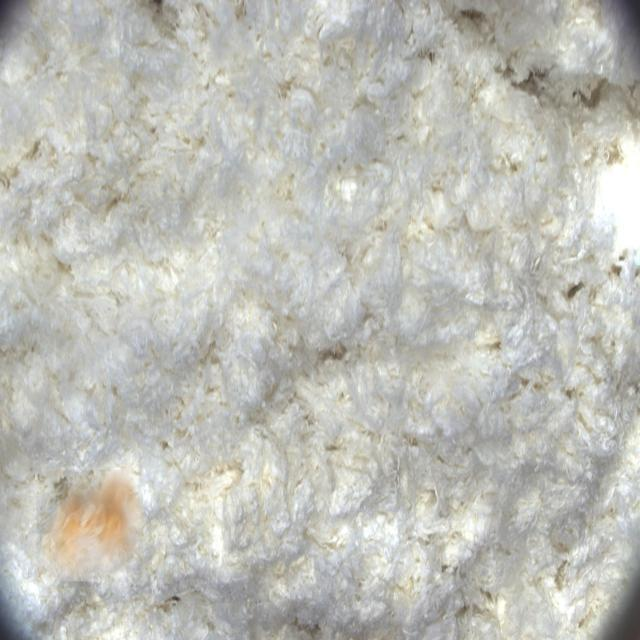dust: (37, 470, 143, 581)
